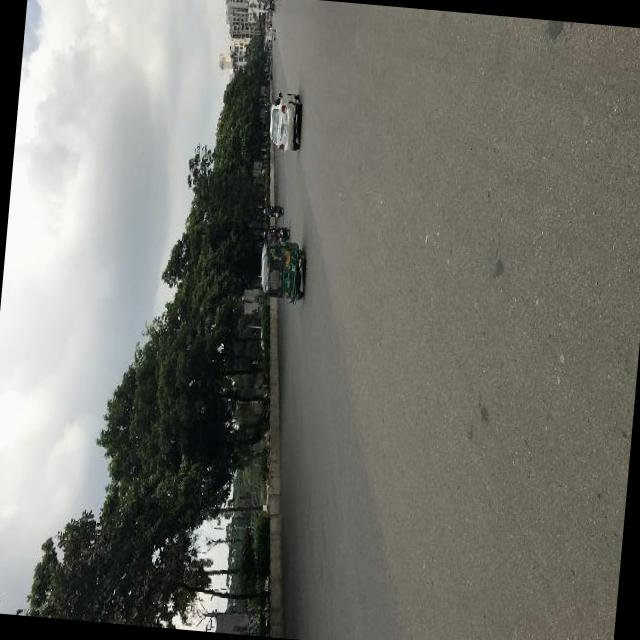bus: (264, 70, 272, 78)
car: (267, 88, 302, 150)
motorcycle: (256, 234, 308, 304), (262, 223, 289, 241), (261, 200, 283, 216), (266, 0, 274, 12)
truck: (264, 26, 274, 36)
